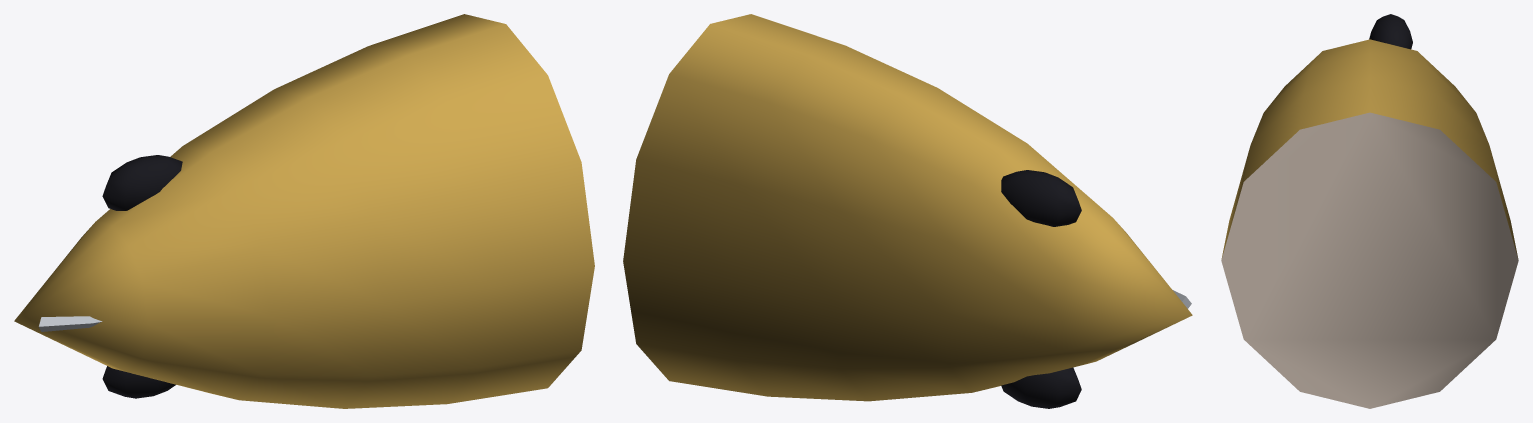
The model's file is fogtail_carp_head.glb.
3 views of the same model, side by side, from view 1: azimuth 30°, elevation 25°; view 2: azimuth 150°, elevation 25°; view 3: azimuth 270°, elevation 25° (orthographic). The views are drawn at different scales.
Visible parts, largest first — view 1: fogtail_carp_head; view 2: fogtail_carp_head; view 3: fogtail_carp_head.
Boxes of the visible parts, x1,y1,x2,y2 form: fogtail_carp_head: (14, 14, 594, 408); fogtail_carp_head: (623, 14, 1192, 408); fogtail_carp_head: (1221, 14, 1518, 408).
Bounding box in the file's own units: 0.08 × 0.055 × 0.05.
